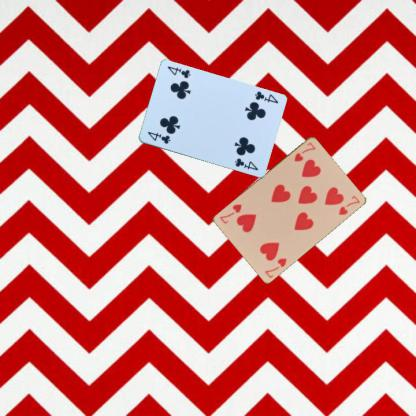4c: (144, 129, 172, 145), (252, 89, 279, 105)
7h: (262, 255, 288, 279), (291, 140, 317, 162)
